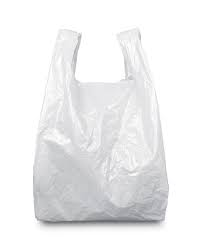PlasticBag: (33, 20, 174, 230)
